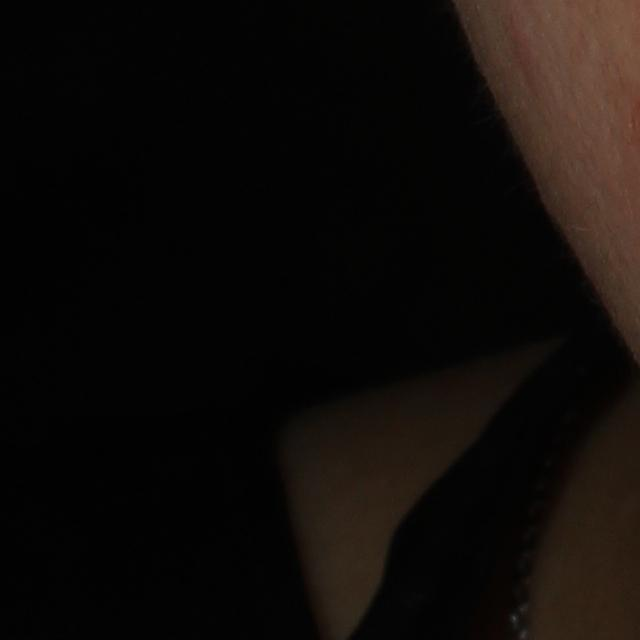papule: (498, 8, 537, 61)
